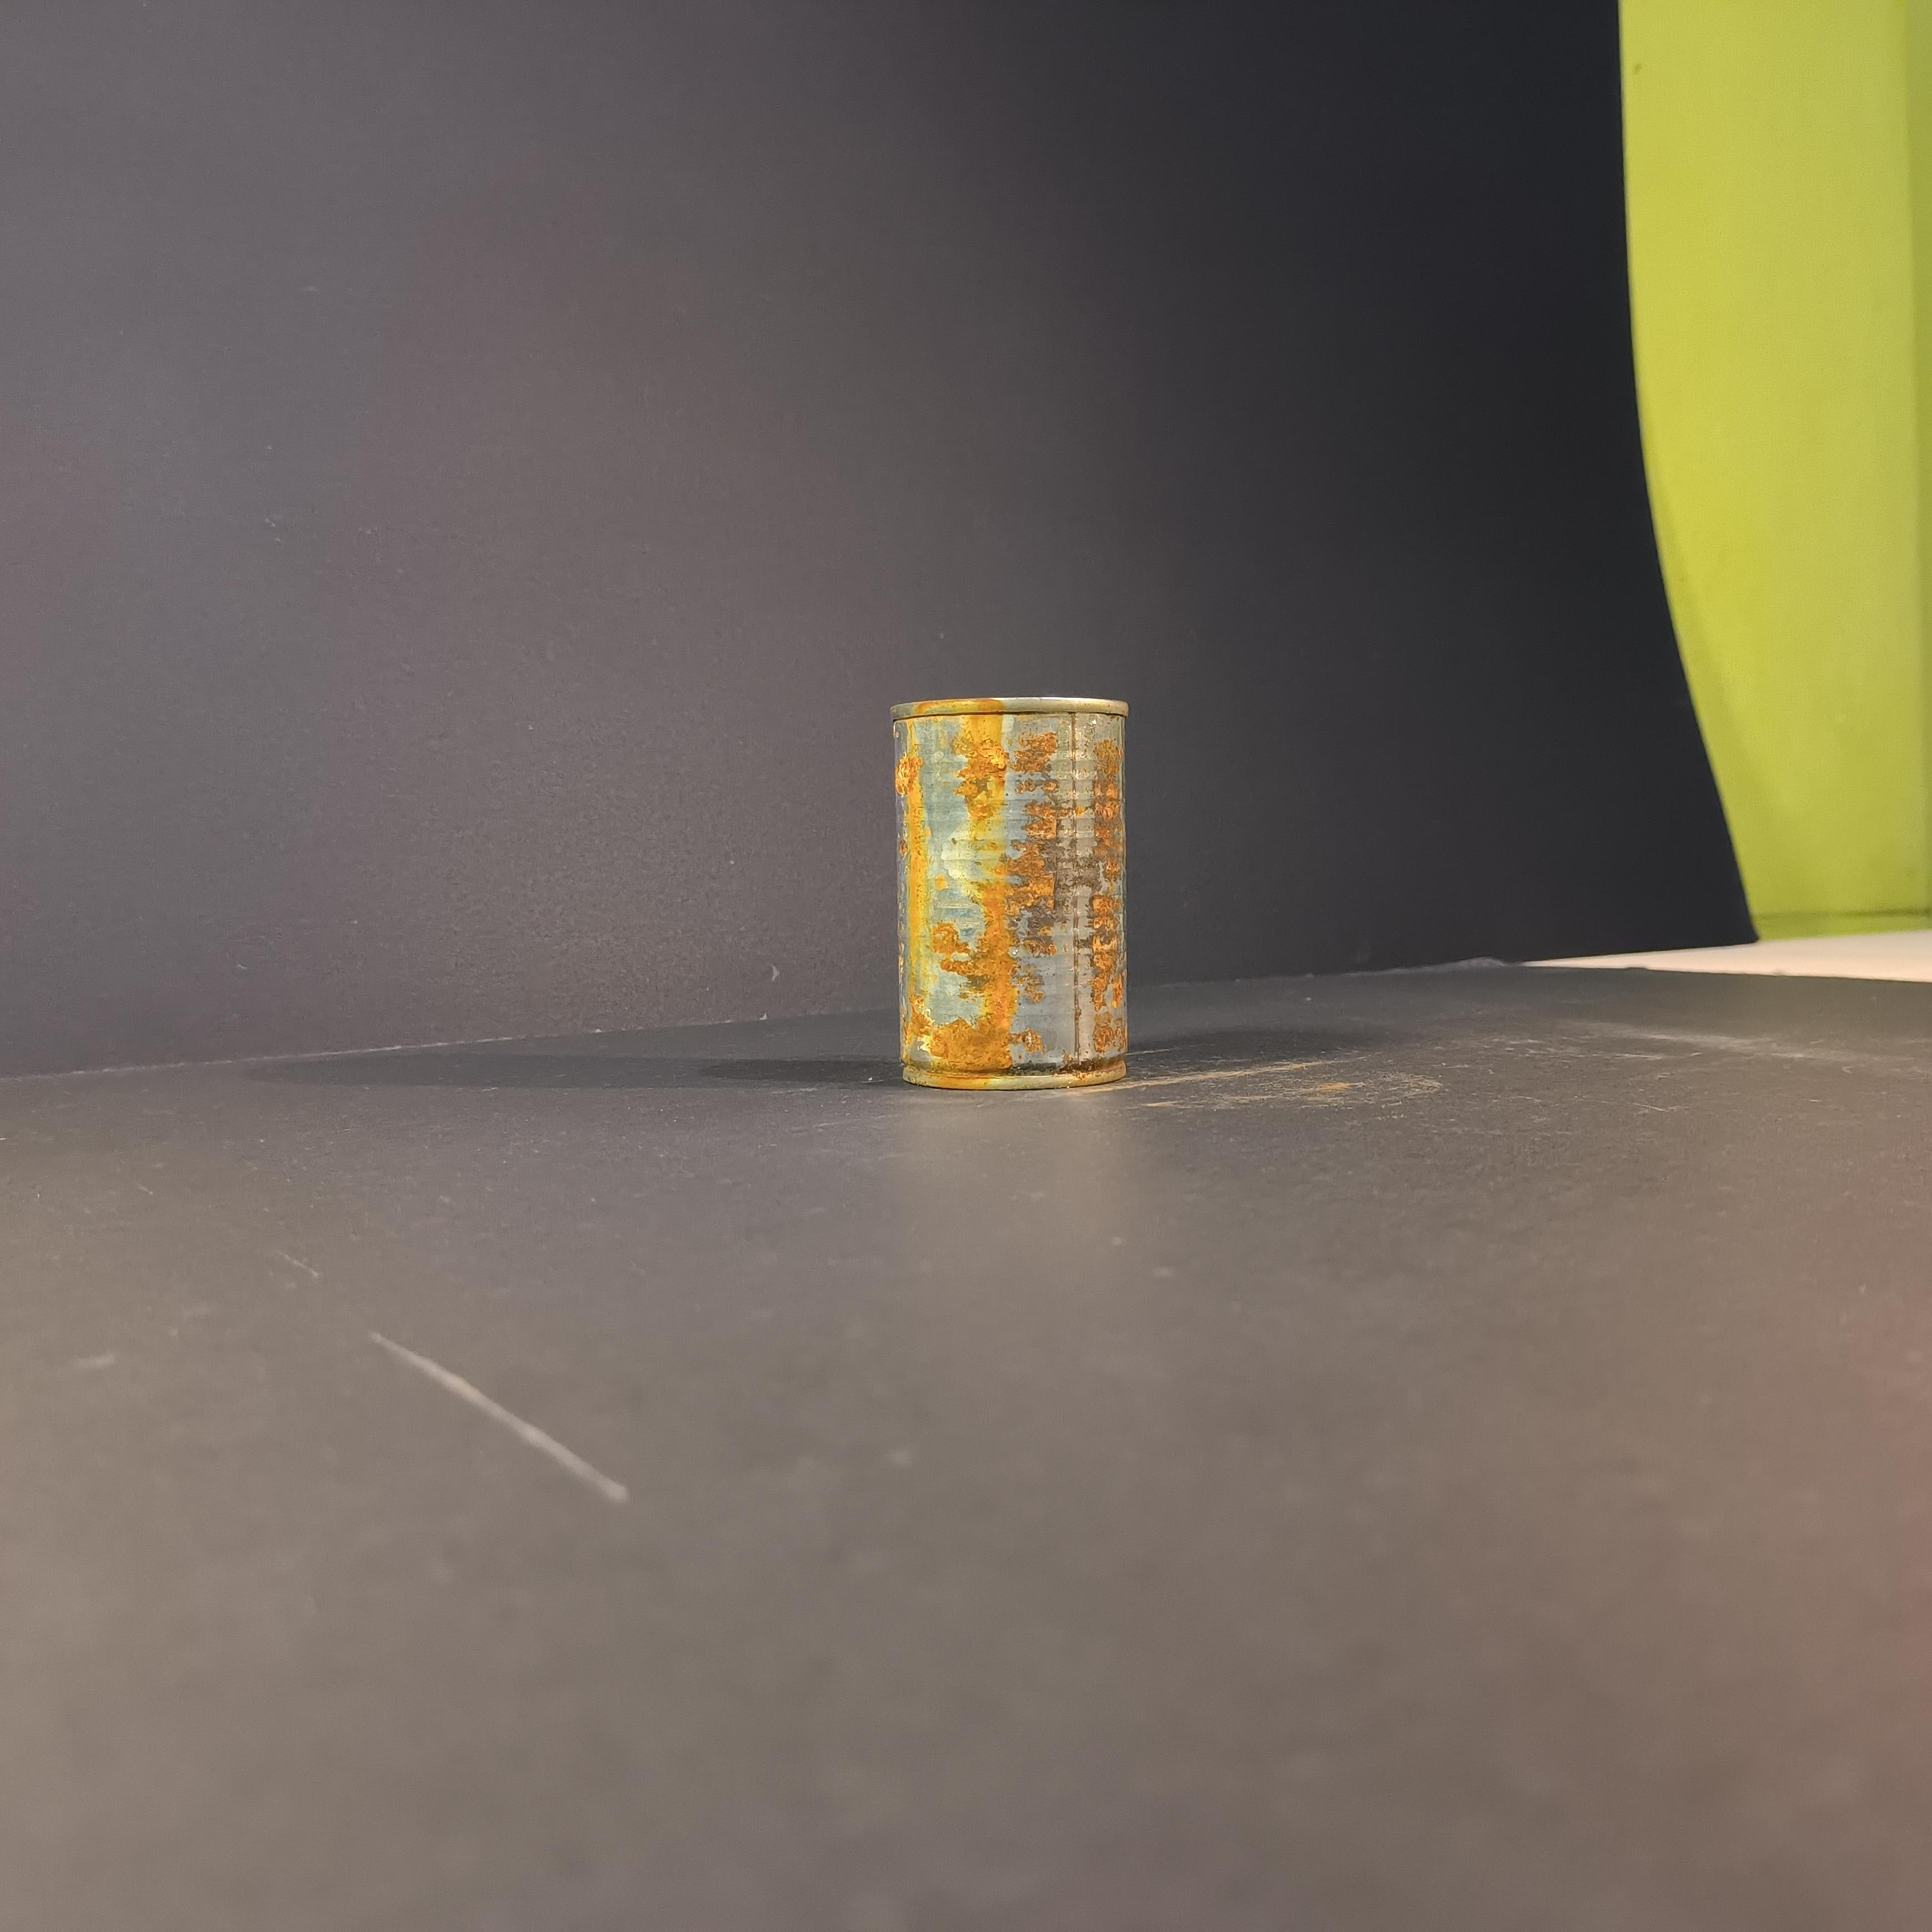Rusted: (863, 667, 1143, 1127)
